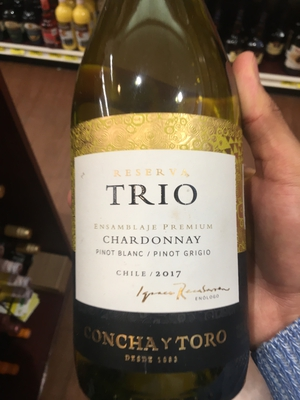trio chardonnay: (62, 27, 259, 400)
